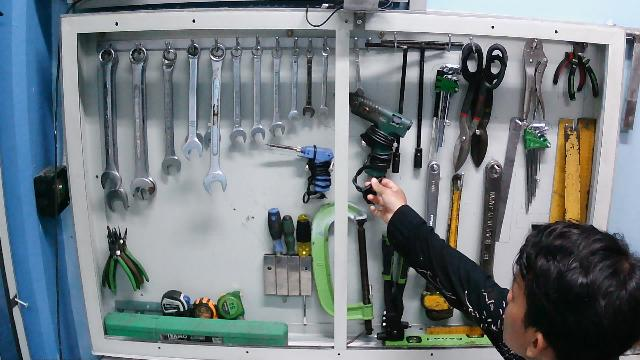gun_lem: (349, 89, 415, 204)
